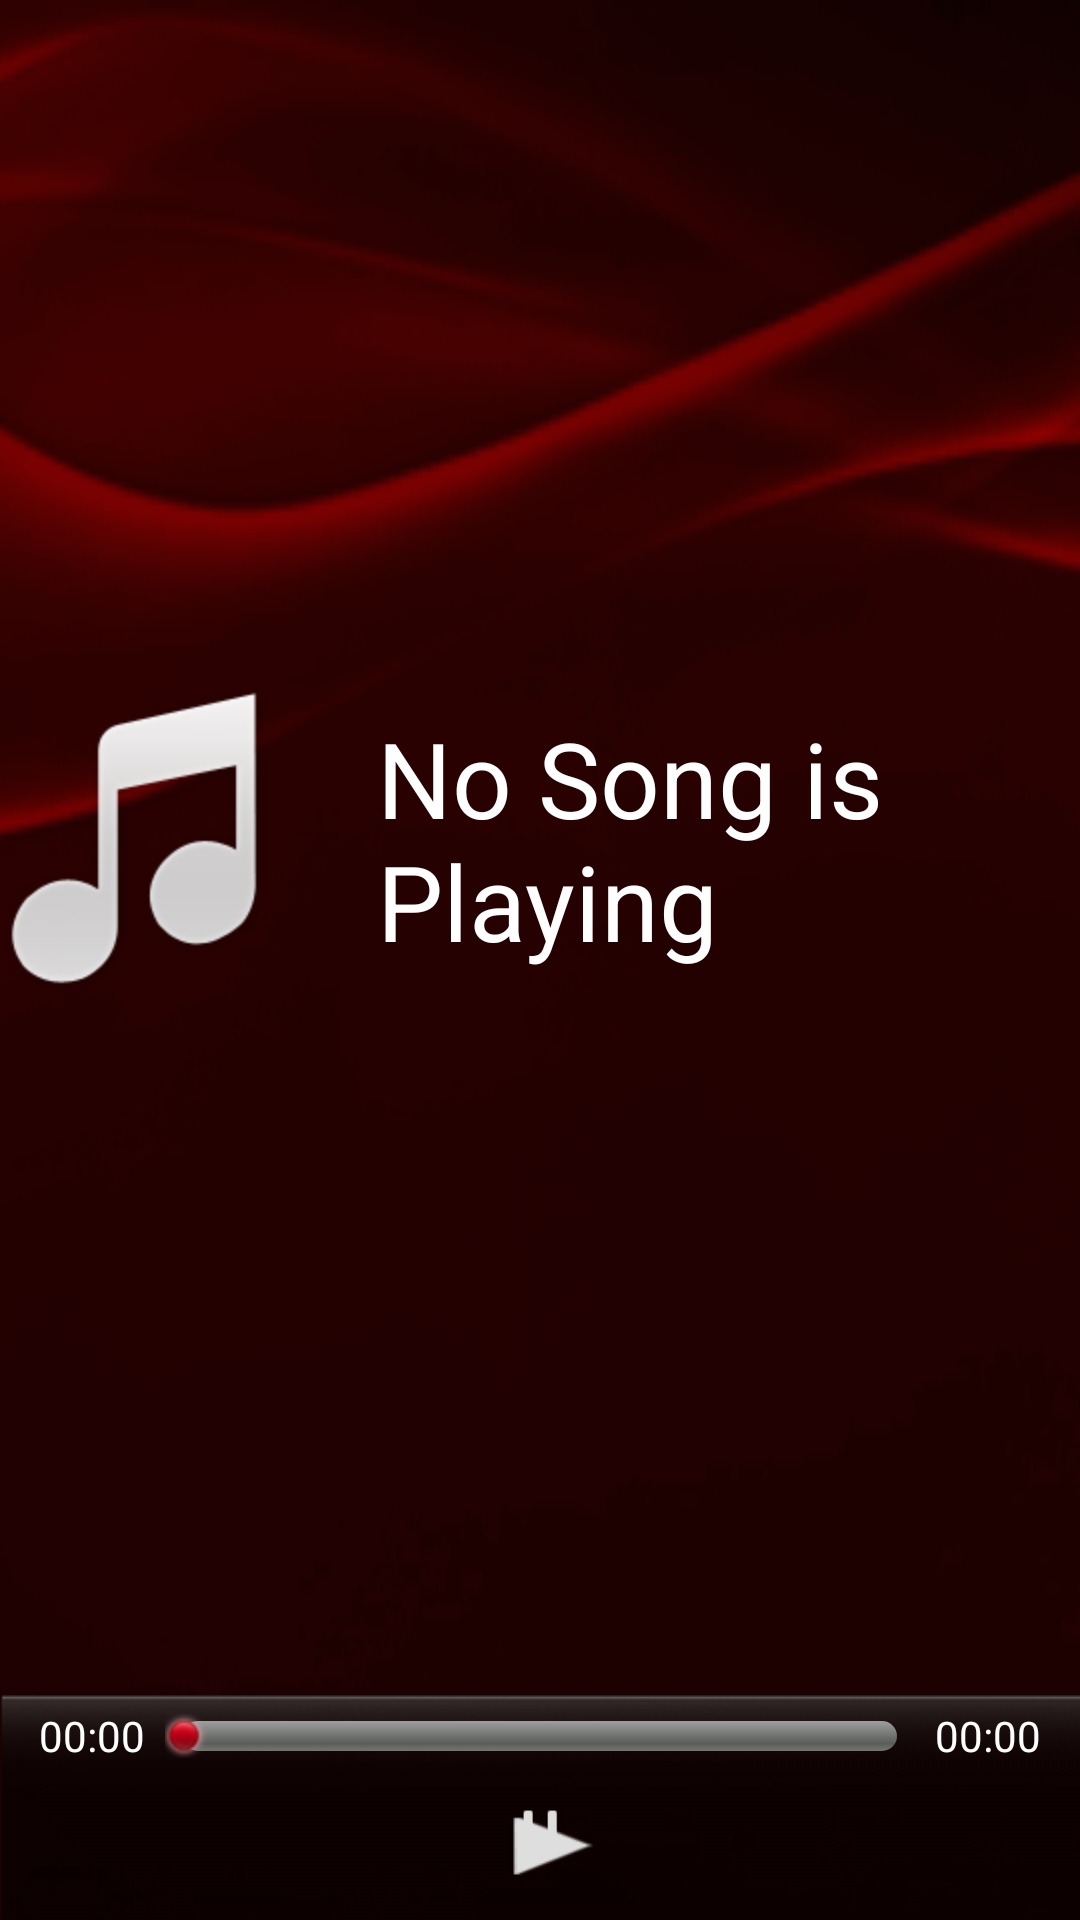

Icons on this 1080*1920 Android screen, each with the point to tap as (x,y):
music: (128,838)
